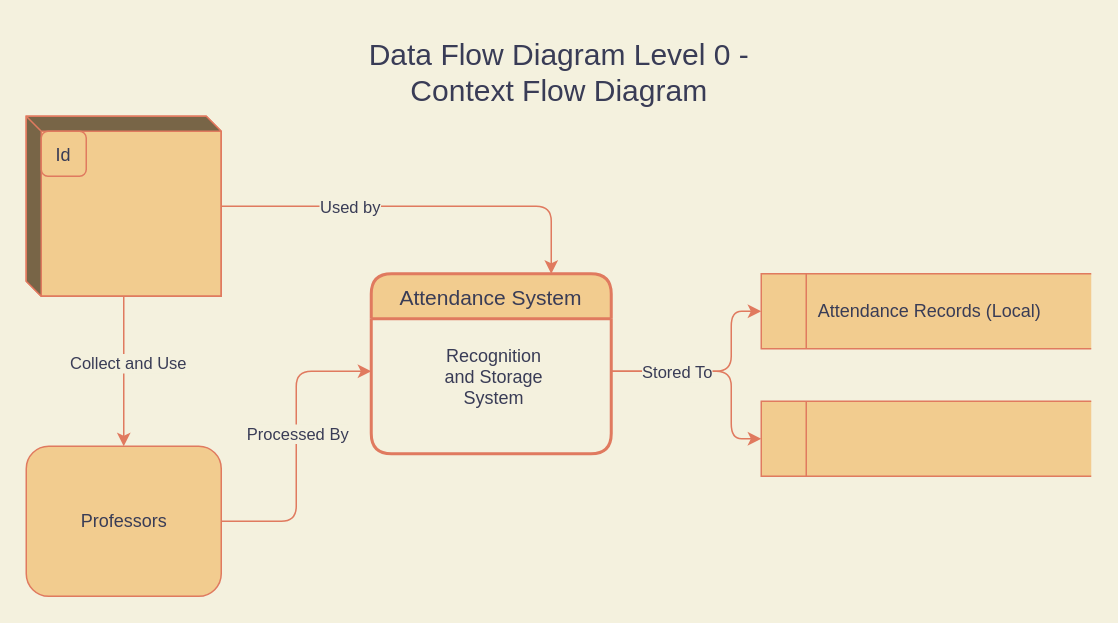
Image size: 1118x623. Some labels were removed from this diagram. Each missing label, with the centre of its shape:
Attendance Records (Cloud): (925,438)
Student Face Data: (123,205)
